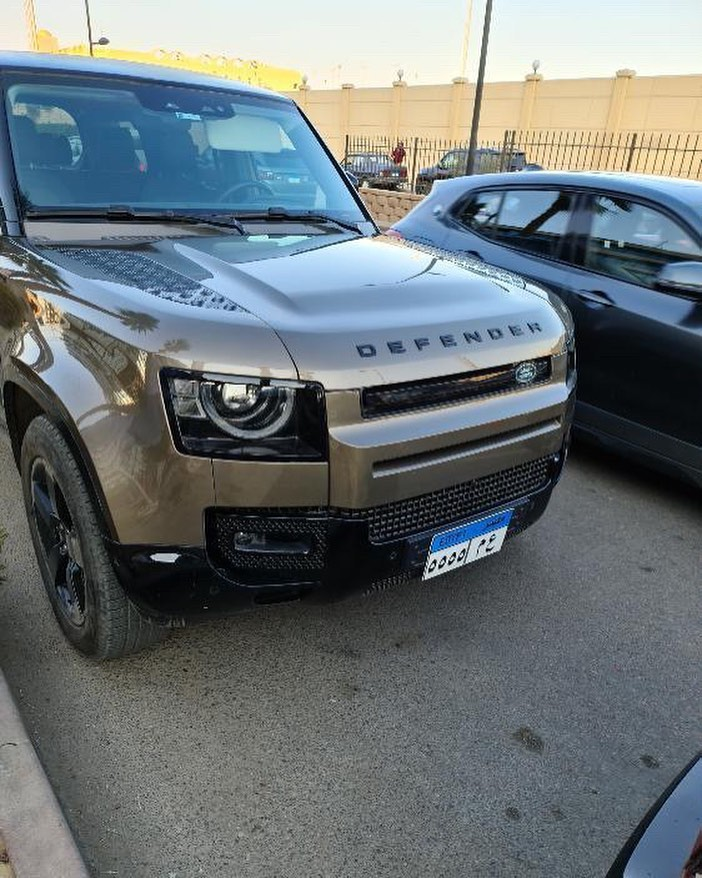carpl: (422, 504, 514, 578)
